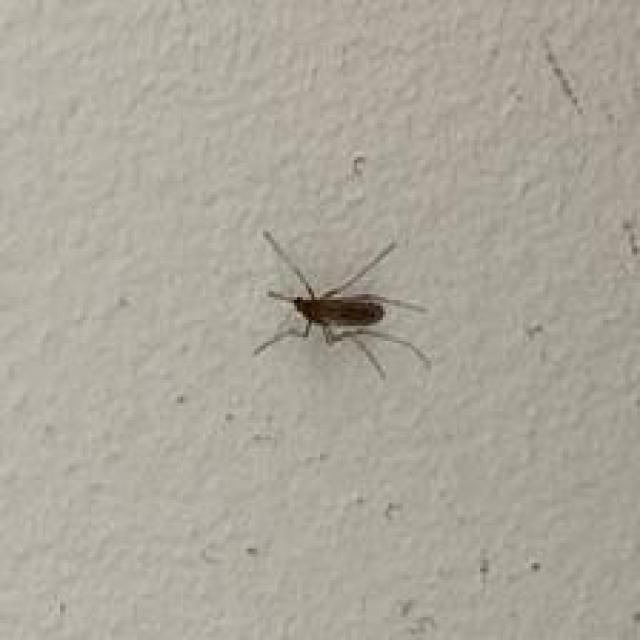Culex: (252, 226, 432, 380)
